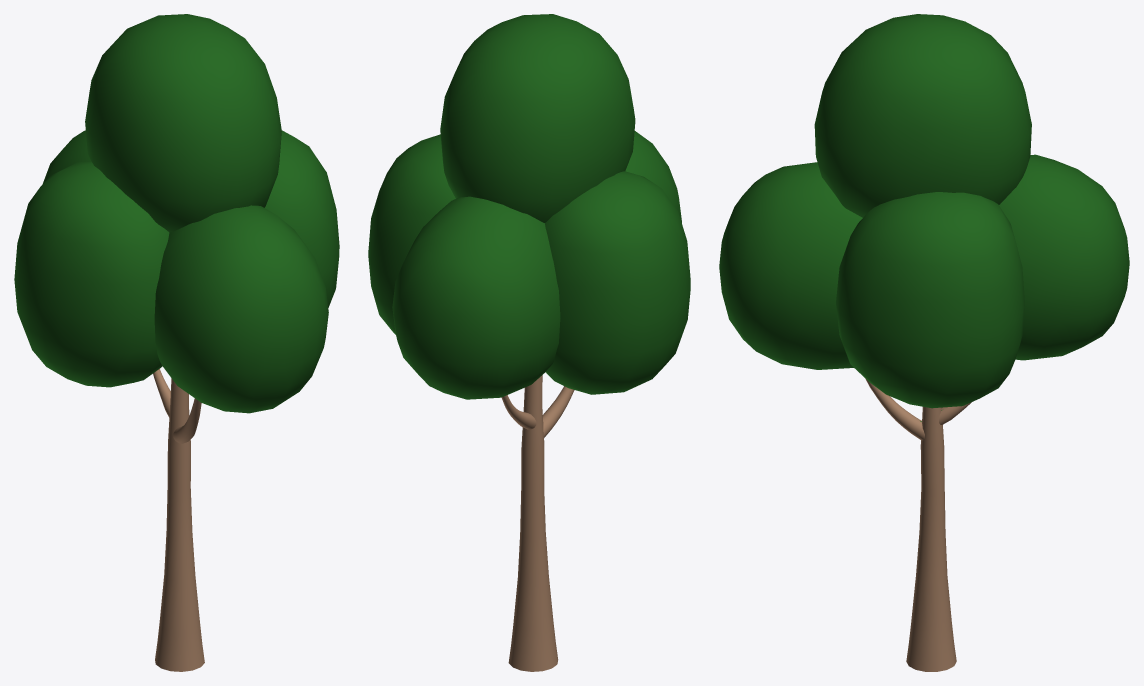
File: Arbol7.fbx
The picture shows the model from 3 angles, left to right: view 1: azimuth 30°, elevation 25°; view 2: azimuth 150°, elevation 25°; view 3: azimuth 270°, elevation 25°; orthographic projection.
Parts seen in each view (by area): view 1: Tree2_1; view 2: Tree2_1; view 3: Tree2_1.
Boxes of the visible parts, x1,y1,x2,y2 form: Tree2_1: (14, 14, 339, 671); Tree2_1: (368, 14, 690, 671); Tree2_1: (719, 14, 1129, 671).
Size of the model in its own units: 803 by 1643 by 958.
